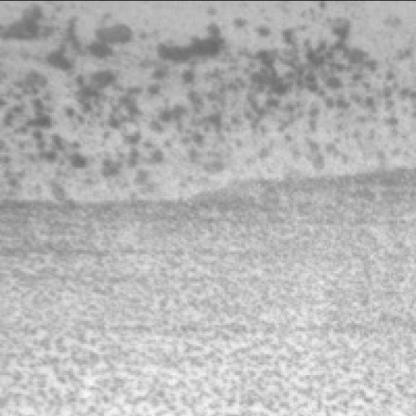pitted_surface: (0, 200, 414, 412), (0, 14, 370, 187)
